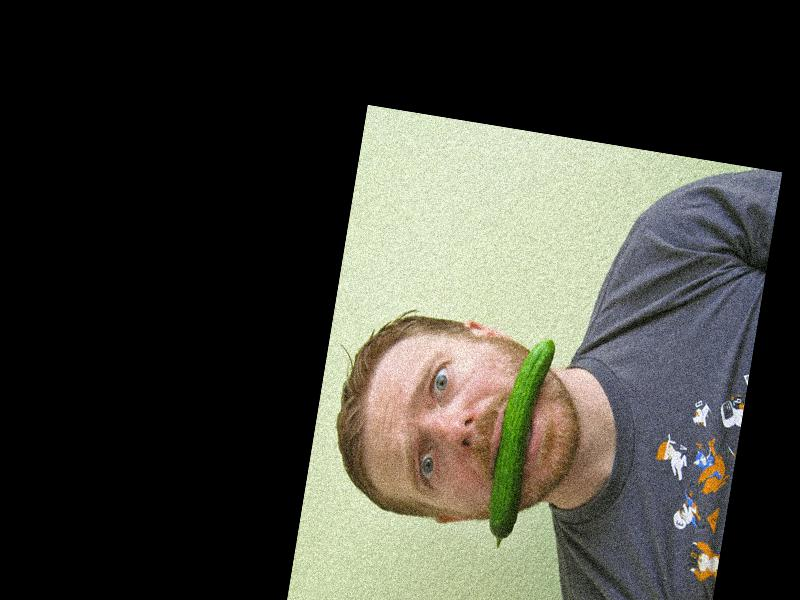Cucumber: (482, 332, 557, 551)
